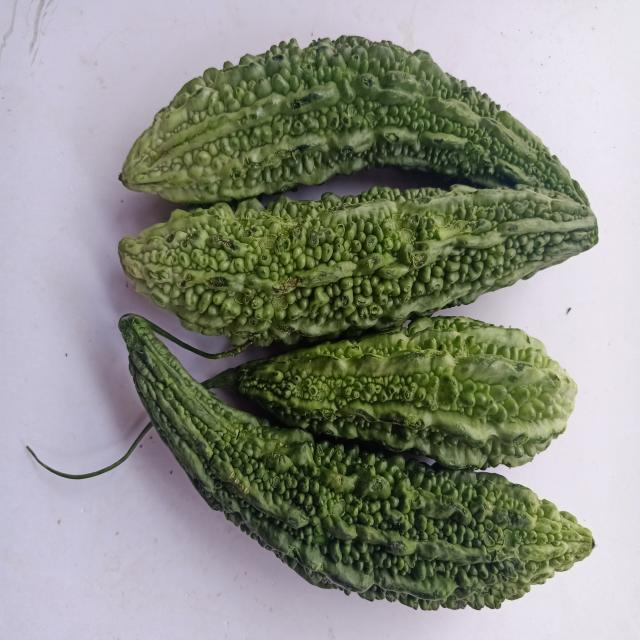Bitter Gourd: (112, 299, 609, 621), (100, 24, 621, 210), (116, 181, 608, 352), (213, 312, 587, 470)
